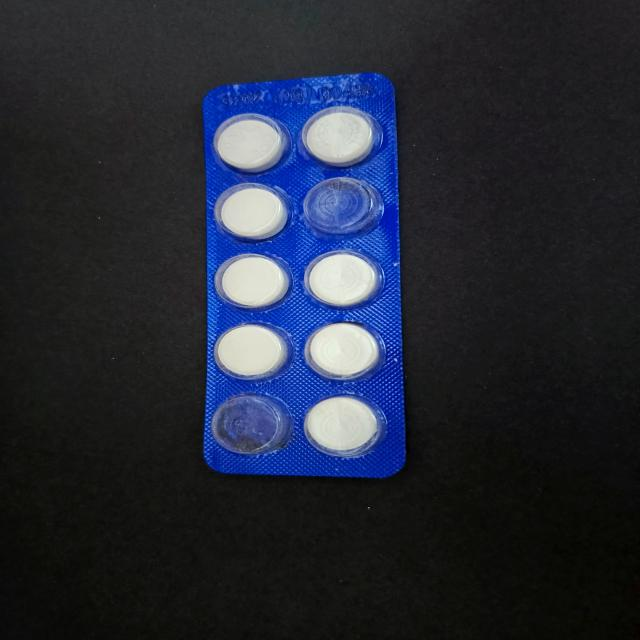defect: (209, 392, 294, 459), (299, 174, 386, 238)
